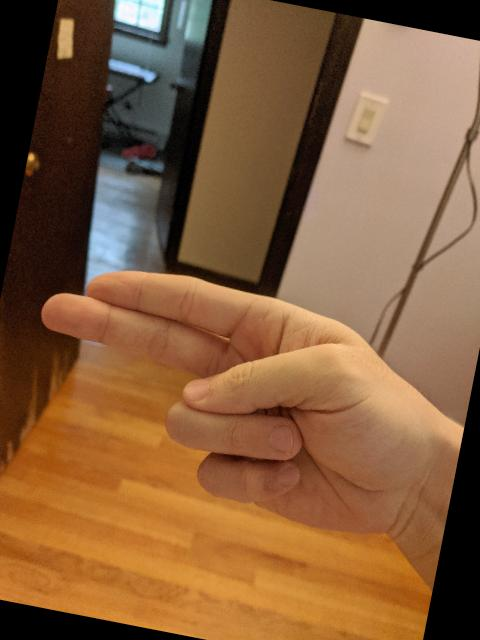H: (6, 242, 444, 550)
